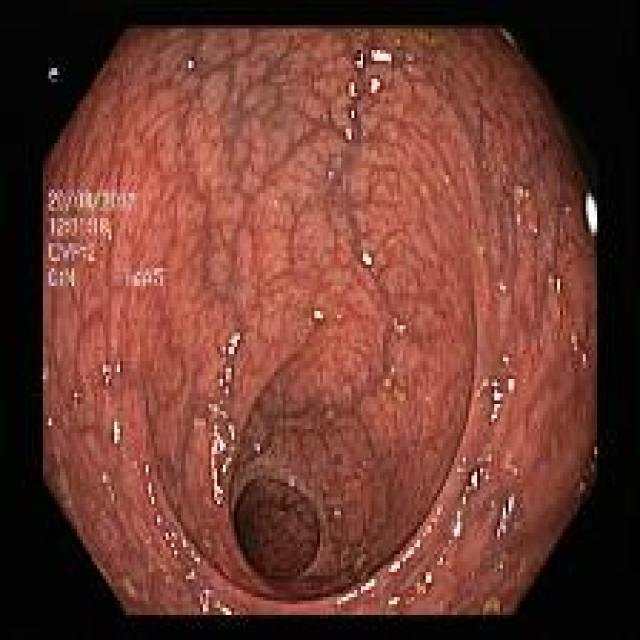ulcerative-colitis: (42, 28, 596, 615)
